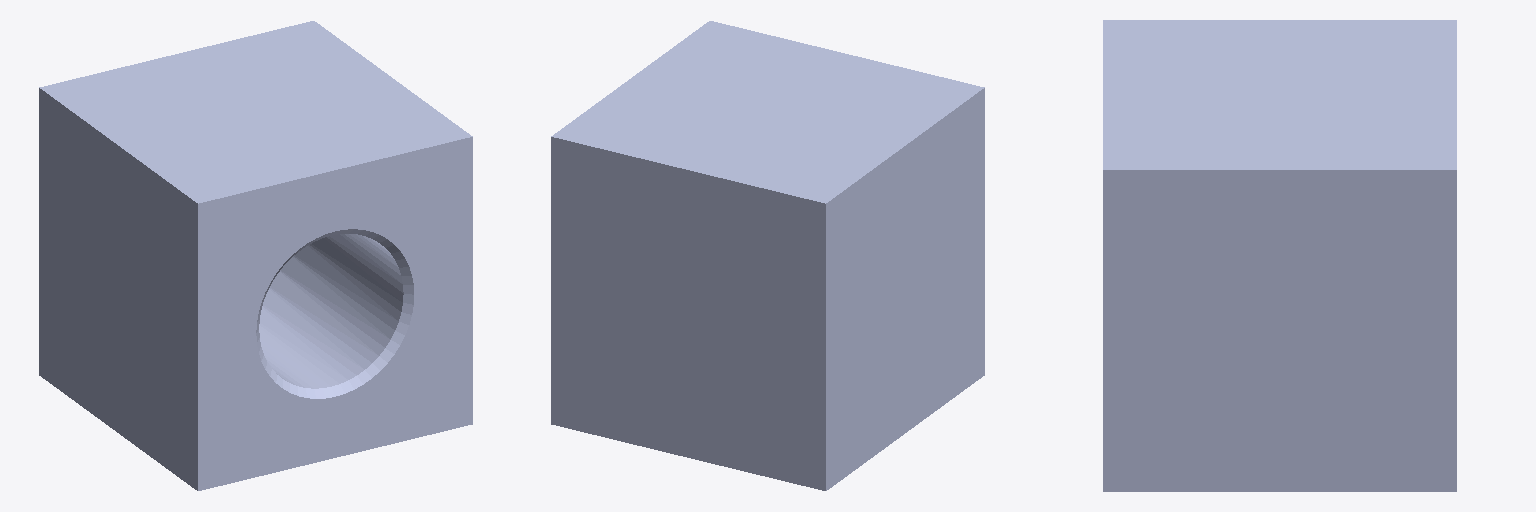
robot.urdf — project_hole:
<?xml version="1.0" encoding="utf-8"?>
<!-- This URDF was automatically created by SolidWorks to URDF Exporter! Originally created by [author] ([email redacted]) 
     Commit Version: 1.6.0-4-g7f85cfe  Build Version: 1.6.7995.38578
     For more information, please see http://wiki.ros.org/sw_urdf_exporter -->
<robot
  name="project_hole">
  <link
    name="base_link">
    <inertial>
      <origin
        xyz="-0.0326474318409534 0.0242336734693947 0.99901776269154"
        rpy="0 0 0" />
      <mass
        value="0.053575148377838" />
      <inertia
        ixx="1.56743303563329E-05"
        ixy="8.47032947254301E-22"
        ixz="-5.56414963194458E-22"
        iyy="1.56743303563329E-05"
        iyz="6.28996713335694E-22"
        izz="1.64898728865515E-05" />
    </inertial>
    <visual>
      <origin
        xyz="0 0 0"
        rpy="0 0 0" />
      <geometry>
        <mesh
          filename="package://project_hole/meshes/base_link.STL" />
      </geometry>
      <material
        name="">
        <color
          rgba="0.792156862745098 0.819607843137255 0.933333333333333 1" />
      </material>
    </visual>
    <collision>
      <origin
        xyz="0 0 0"
        rpy="0 0 0" />
      <geometry>
        <mesh
          filename="package://project_hole/meshes/base_link.STL" />
      </geometry>
    </collision>
  </link>
</robot>

--- Render facts (derived) ---
3 views of the same robot in one strip: view 1: azimuth 30°, elevation 25°; view 2: azimuth 150°, elevation 25°; view 3: azimuth 270°, elevation 25° (orthographic).
Robot: project_hole — 1 links, 0 joints (none); root link base_link; default pose: all joints at 0.
Visible links, largest first — view 1: base_link; view 2: base_link; view 3: base_link.
Link boxes in pixels (<box>): base_link: <box>39,21,472,490</box>; base_link: <box>551,21,984,490</box>; base_link: <box>1103,20,1456,491</box>.
Bounding box of the posed robot: 0.04 × 0.04 × 0.04 m (x, y, z).
Meshes: 1 distinct files referenced, 1 mesh visuals loaded (1 binary STL).